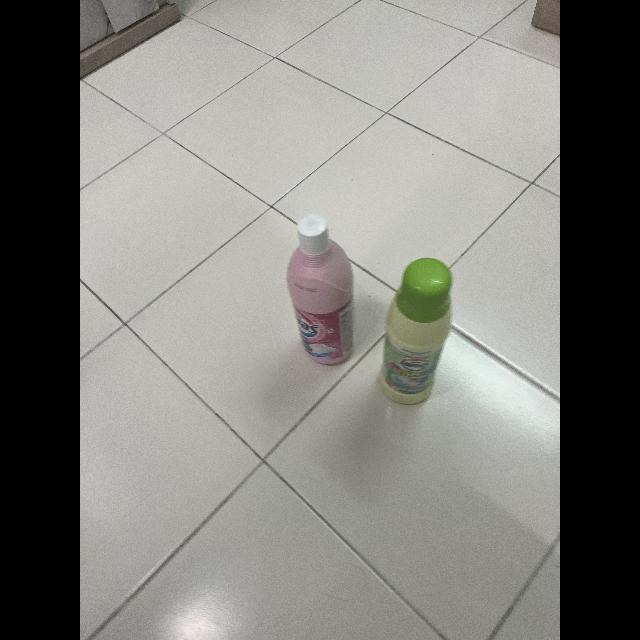chemical_plastic_bottle: (380, 252, 460, 408), (285, 210, 361, 368)
